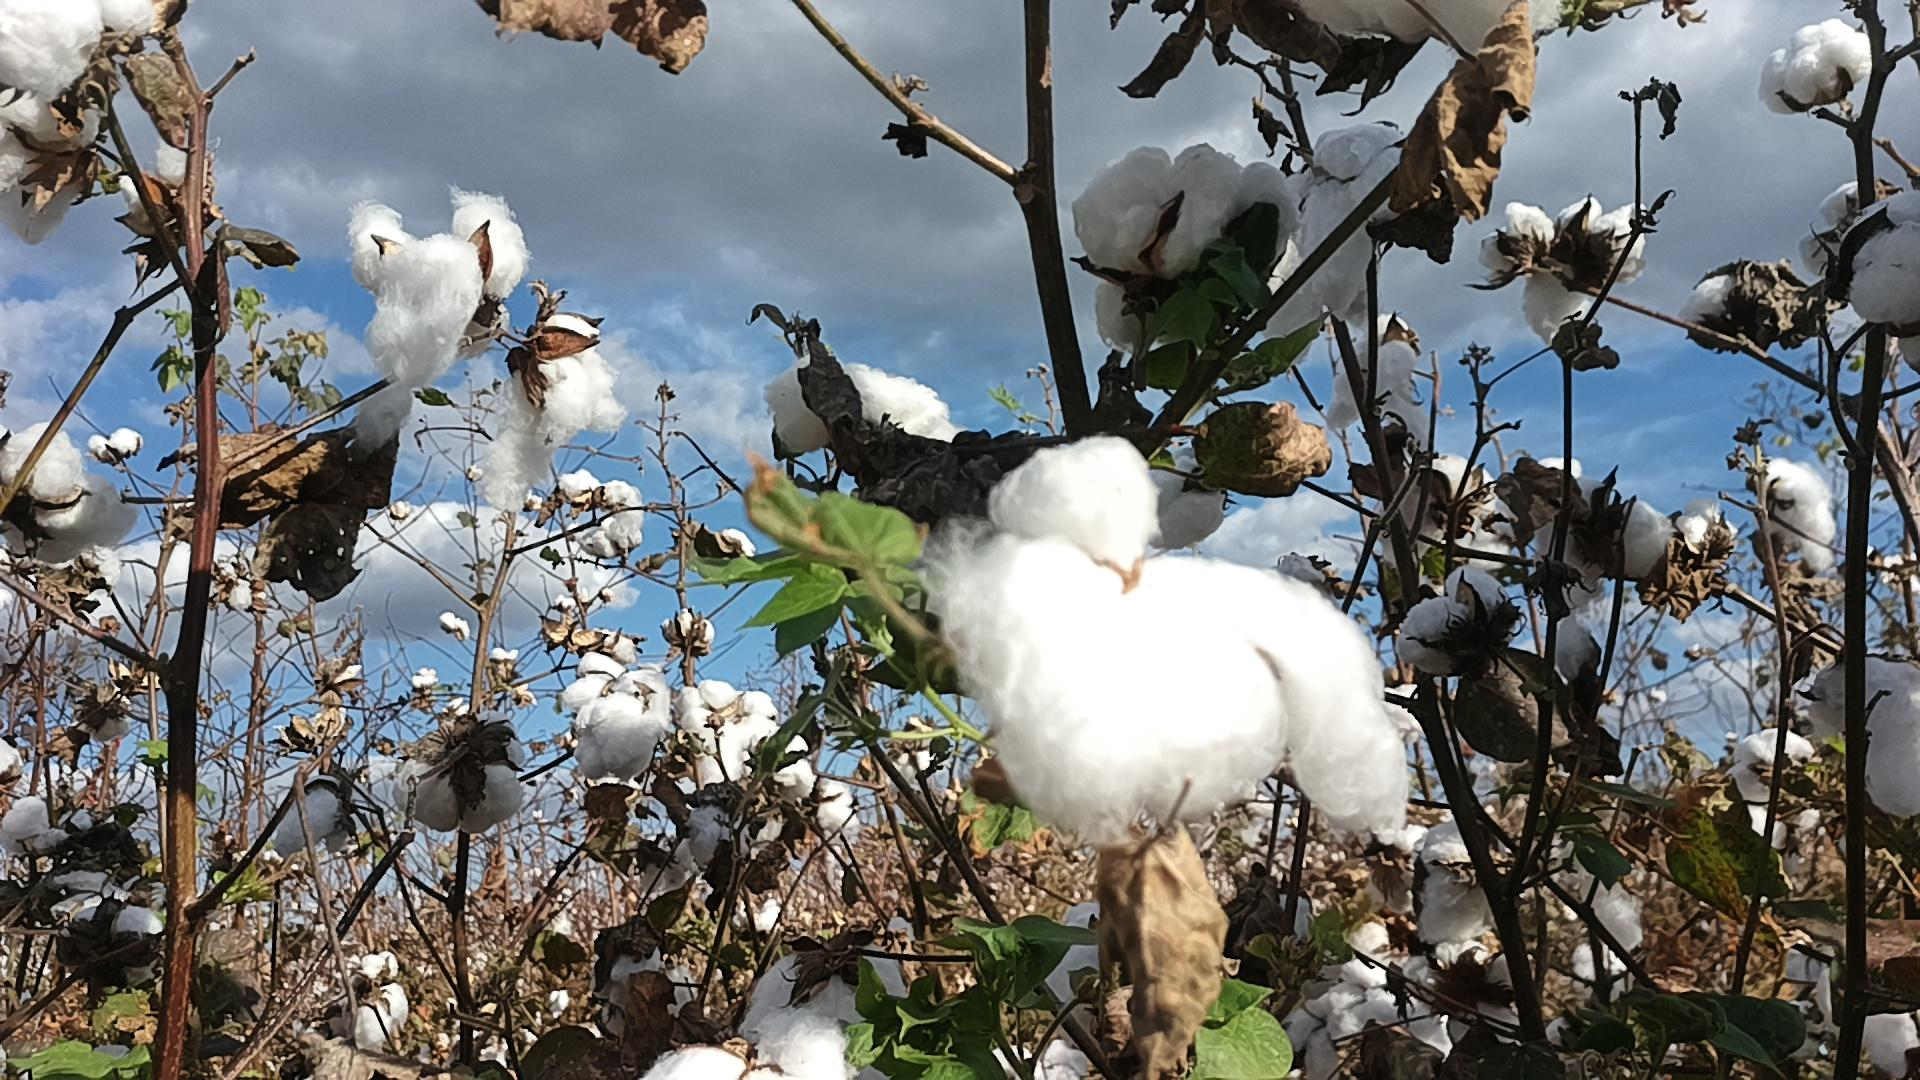cotton_ready: (932, 438, 1408, 841), (1076, 142, 1295, 349), (353, 194, 526, 385), (476, 315, 622, 506), (1474, 198, 1648, 347), (1288, 120, 1411, 316), (994, 906, 1127, 1080), (746, 940, 913, 1067), (767, 363, 957, 469), (1283, 968, 1453, 1080), (1805, 658, 1920, 820), (0, 423, 138, 555), (0, 0, 178, 100), (642, 1001, 848, 1080), (0, 83, 98, 245), (1534, 491, 1669, 605), (1836, 193, 1920, 375), (560, 653, 669, 783), (394, 725, 527, 824), (1382, 455, 1493, 571), (1283, 0, 1510, 55), (1320, 335, 1428, 450), (1398, 563, 1507, 675), (670, 675, 778, 787), (1763, 17, 1871, 116), (1735, 728, 1818, 851), (1420, 823, 1495, 947), (1760, 455, 1833, 579), (42, 869, 167, 940), (771, 741, 861, 836), (1683, 272, 1766, 340), (1858, 996, 1920, 1080)
